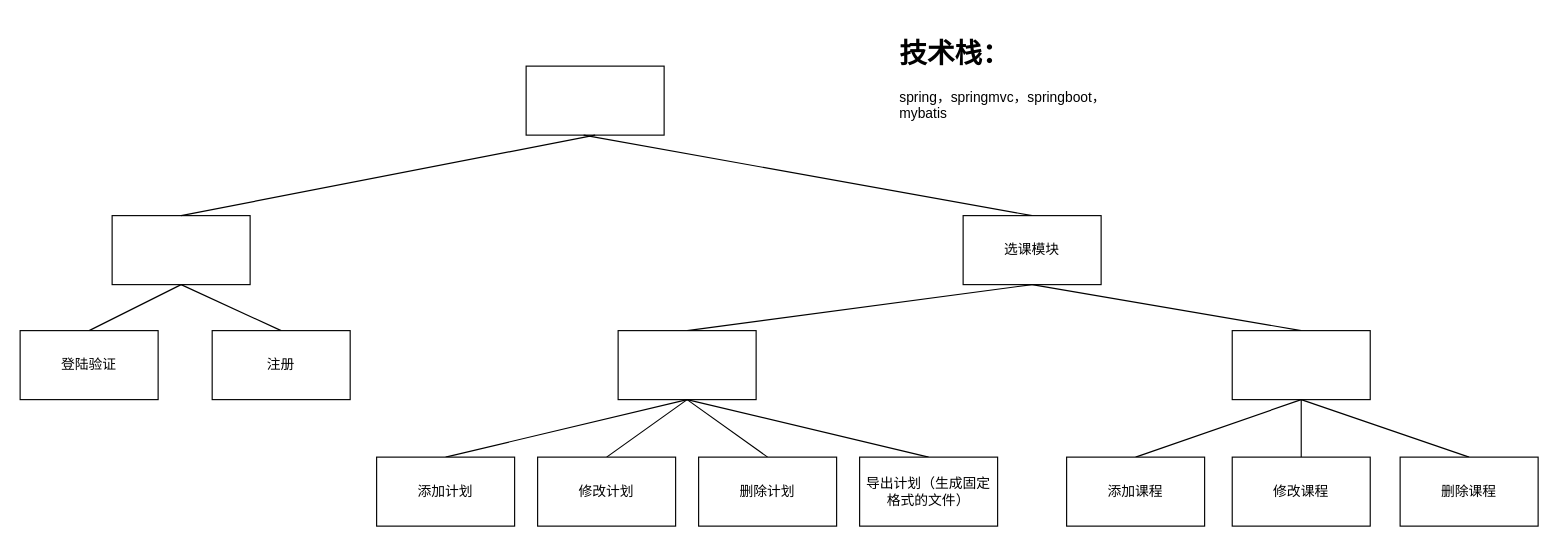
Image size: 1558x546. Some labels were removed from this diagram. Each missing label, with the centre of its shape:
培养计划: point 686,364
基于springboot的选课管理系统: point 594,100
用户模块: point 180,249
课程: point 1300,364
